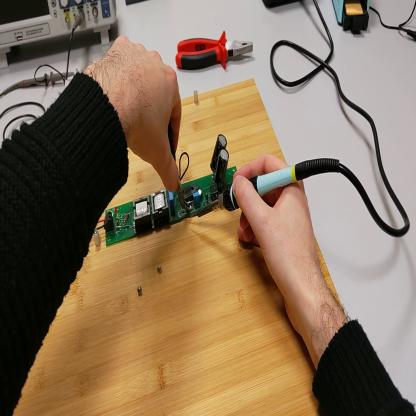hand: (88, 35, 184, 196), (233, 154, 325, 307)
high voltage board: (97, 134, 238, 247)
oscilloscope: (2, 3, 119, 69)
oscilloscope probe tip: (13, 72, 77, 90)
pliers: (175, 35, 255, 72), (169, 122, 191, 213)
welder base: (331, 1, 371, 40)
welder probe tip: (189, 157, 340, 223)
welder station: (263, 1, 299, 12)
working area: (15, 82, 348, 414)
